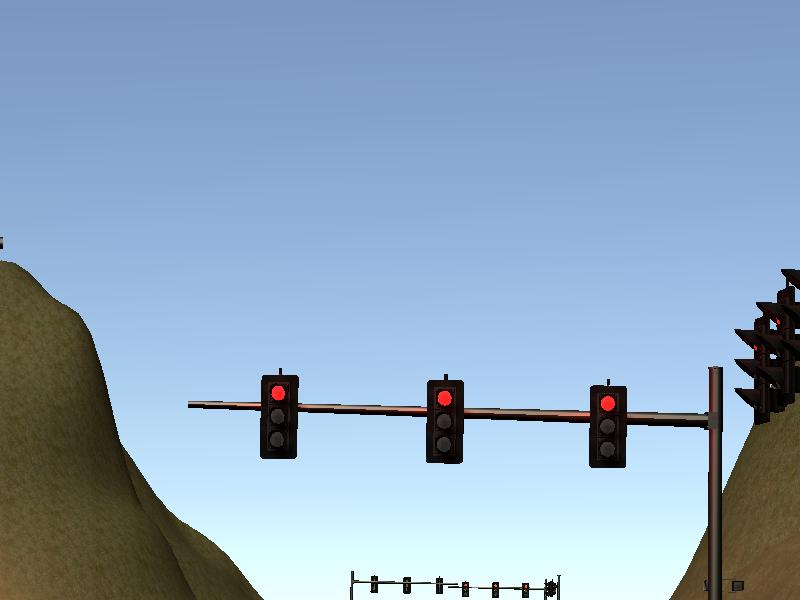Red: (261, 374, 297, 460), (589, 385, 625, 467), (427, 380, 462, 463)
